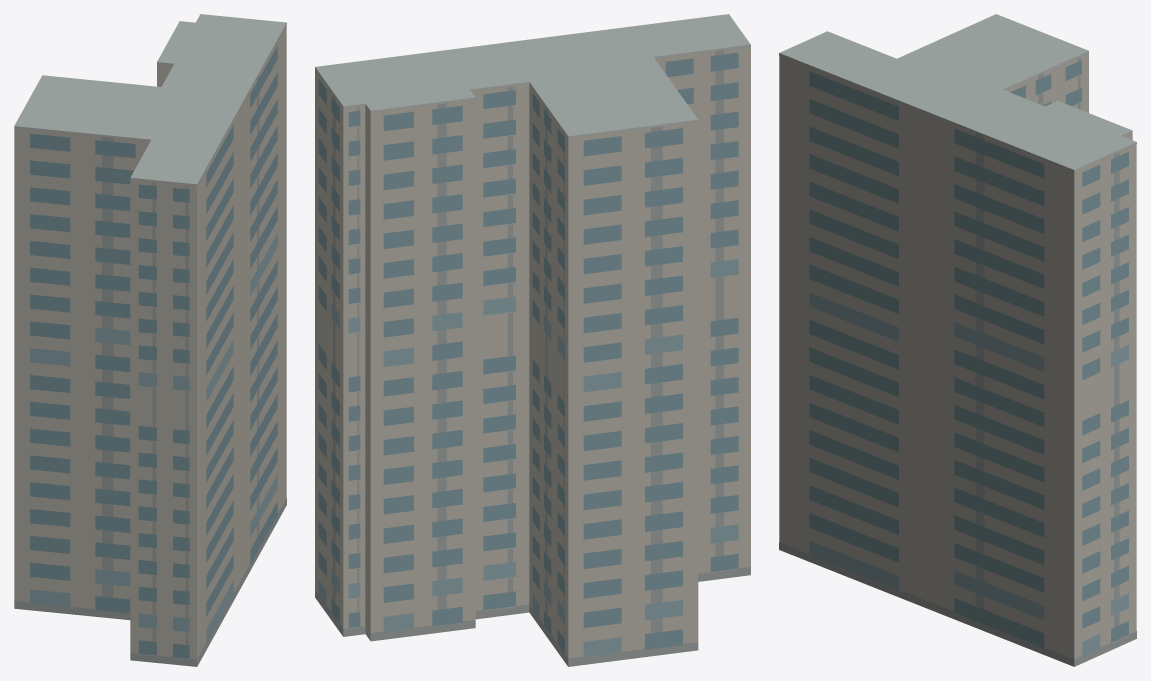
File: residential-9271cb74-d49f-4616-8622-219555a7f8a9.glb
3 renders of one model, left to right at view 1: azimuth 30°, elevation 25°; view 2: azimuth 150°, elevation 25°; view 3: azimuth 270°, elevation 25°, orthographic. The views are drawn at different scales.
Visible parts, largest first — view 1: residential-9271cb74-d49f-4616-8622-219555a7f8a9.tmp; view 2: residential-9271cb74-d49f-4616-8622-219555a7f8a9.tmp; view 3: residential-9271cb74-d49f-4616-8622-219555a7f8a9.tmp.
Boxes of the visible parts, x1=… form: residential-9271cb74-d49f-4616-8622-219555a7f8a9.tmp: x1=14, y1=14, x2=286, y2=666; residential-9271cb74-d49f-4616-8622-219555a7f8a9.tmp: x1=315, y1=14, x2=750, y2=666; residential-9271cb74-d49f-4616-8622-219555a7f8a9.tmp: x1=779, y1=14, x2=1136, y2=666.
Bounding box in the file's own units: 37.05 × 55 × 35.89.
